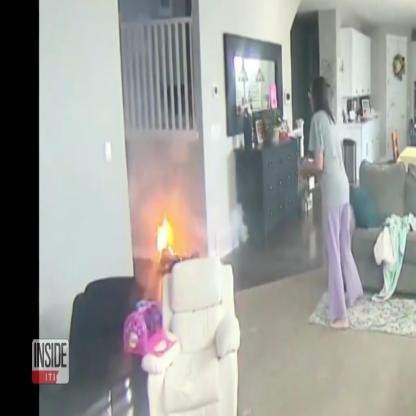fire: (156, 212, 173, 251)
